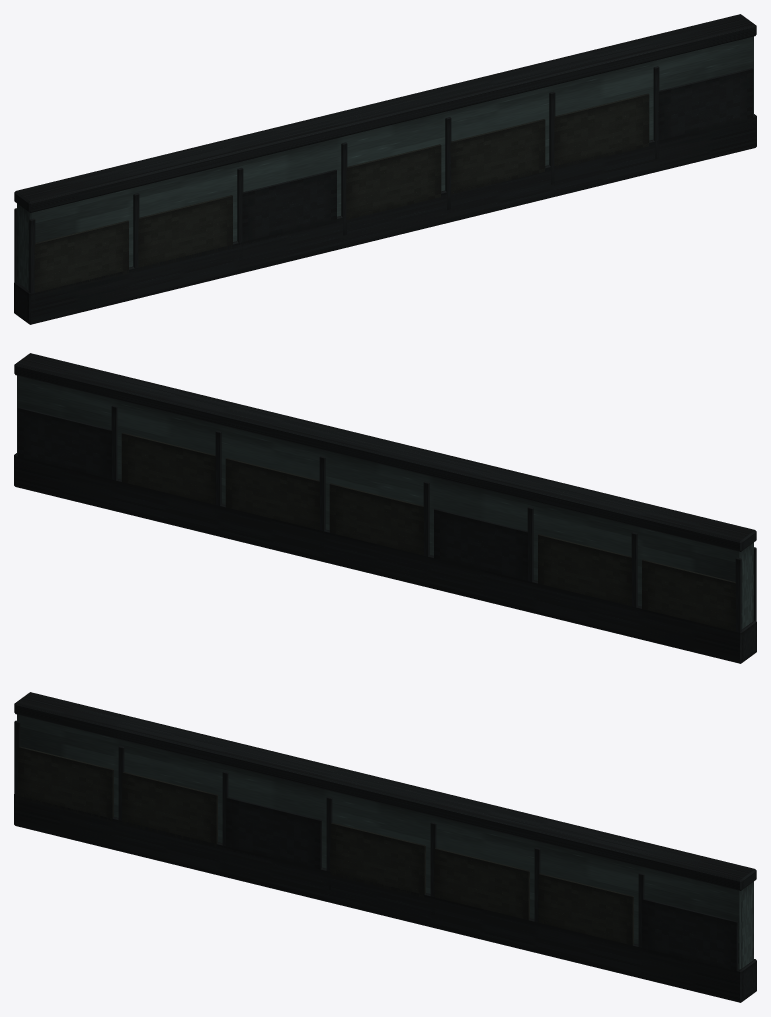
Rendered from THStage_BackBoundary.fbx.
The picture shows the model from 3 angles, top to bottom: view 1: azimuth 30°, elevation 25°; view 2: azimuth 150°, elevation 25°; view 3: azimuth 330°, elevation 25°; orthographic projection.
Visible parts, largest first — view 1: THStage_BackBoundary.008; view 2: THStage_BackBoundary.008; view 3: THStage_BackBoundary.008.
Part boxes in pixels (x1,y1,x2,y2): THStage_BackBoundary.008: [14, 14, 756, 324]; THStage_BackBoundary.008: [14, 353, 756, 663]; THStage_BackBoundary.008: [14, 692, 756, 1002].
Size of the model in its own units: 4.64 by 0.75 by 0.18.
Materials: 1 (1 with a texture image).
